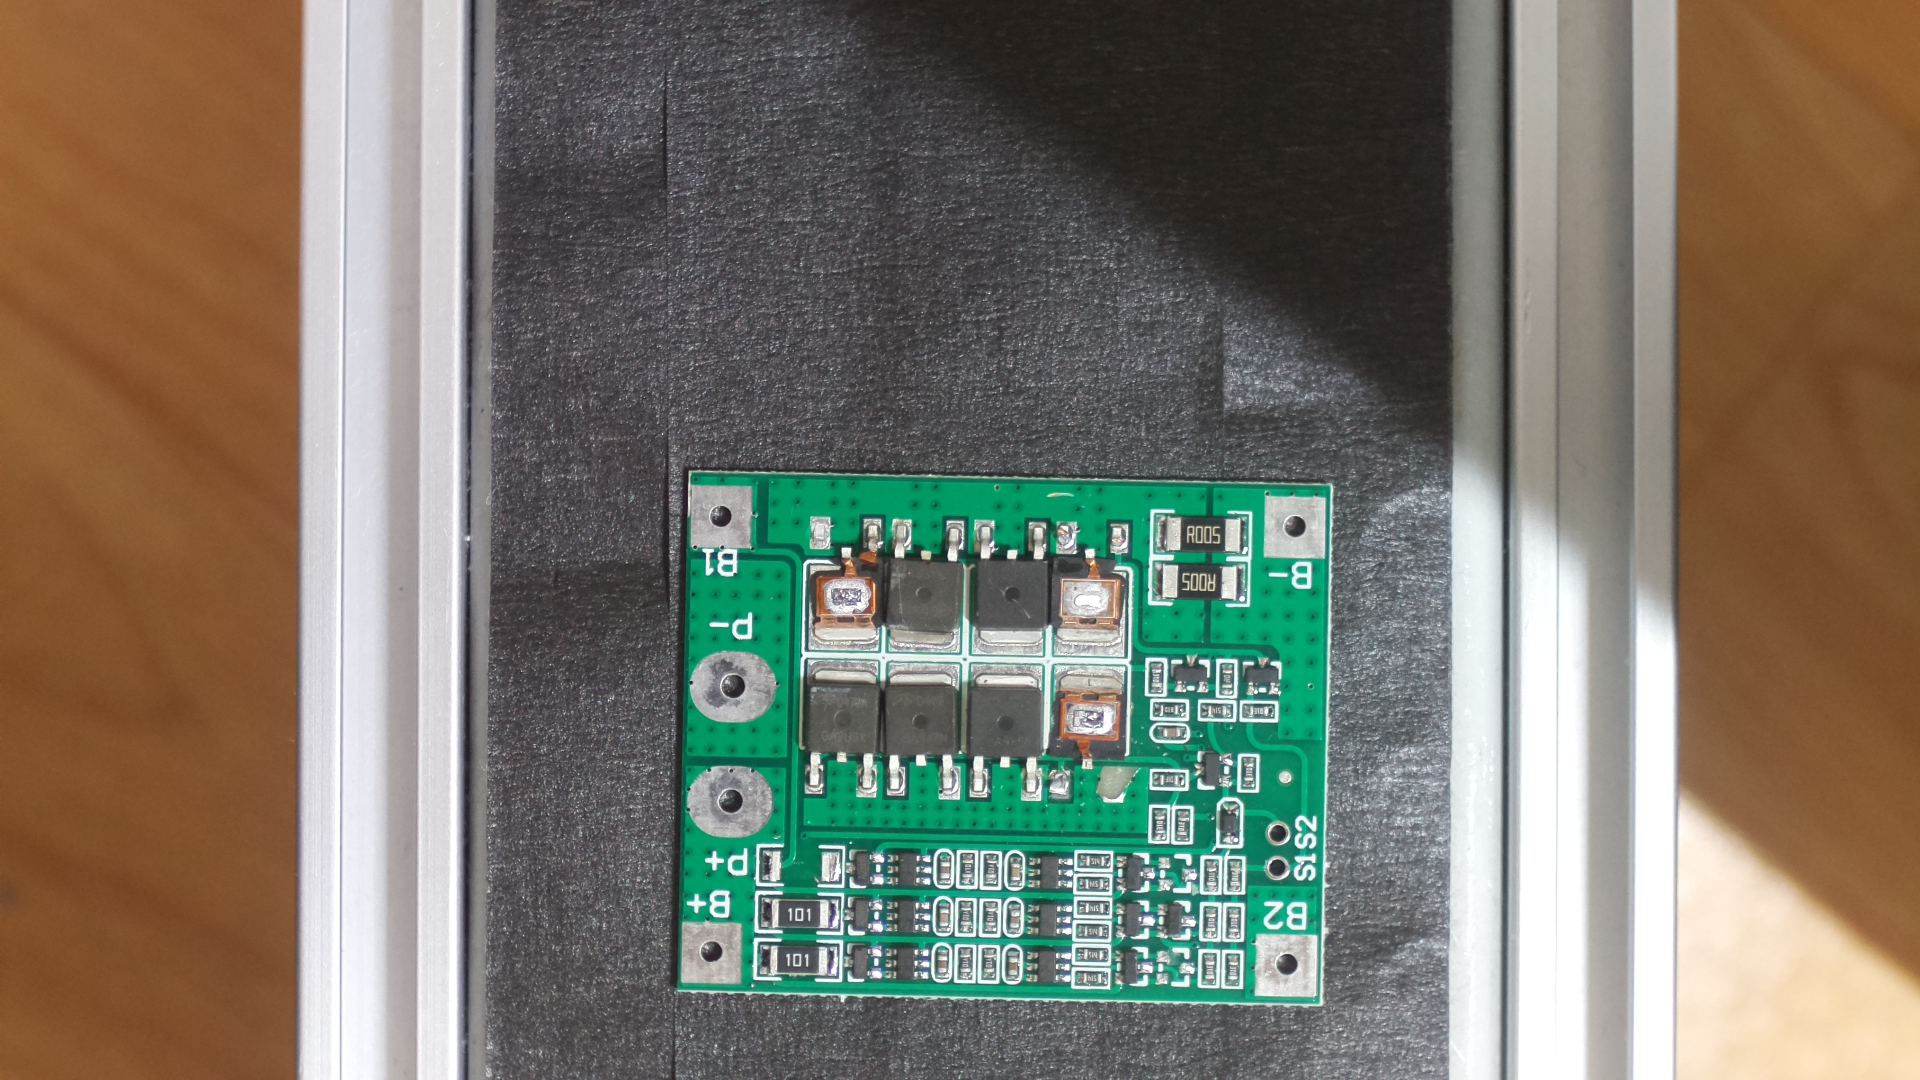C_Missing_part: (670, 454, 1340, 1030)
